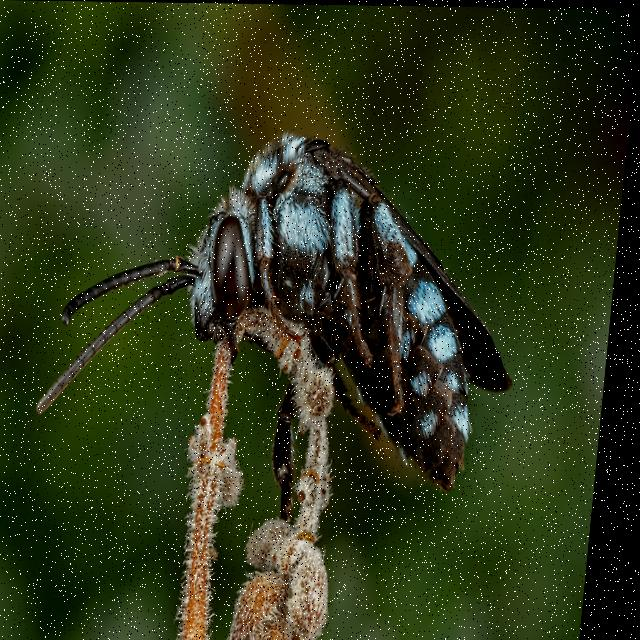Thyreus: (32, 109, 548, 535)
